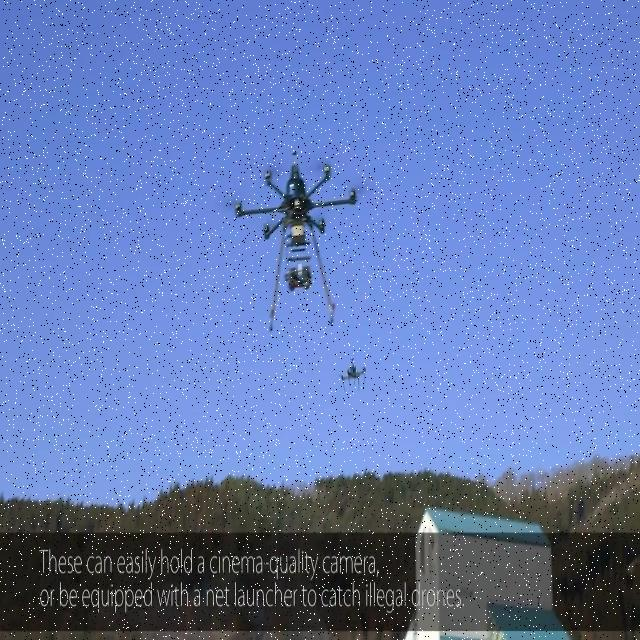UAV: (224, 150, 364, 332), (339, 356, 366, 392)
